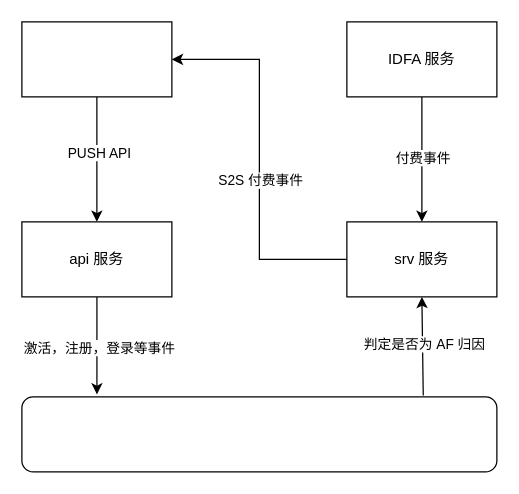
The diagram is 519 pixels wide and 494 high, and some of its shapes have lost their labels. Each missing label, with the centre of its shape:
"appsflyer" goes at pixel 96 59.
"DB" goes at pixel 259 434.
